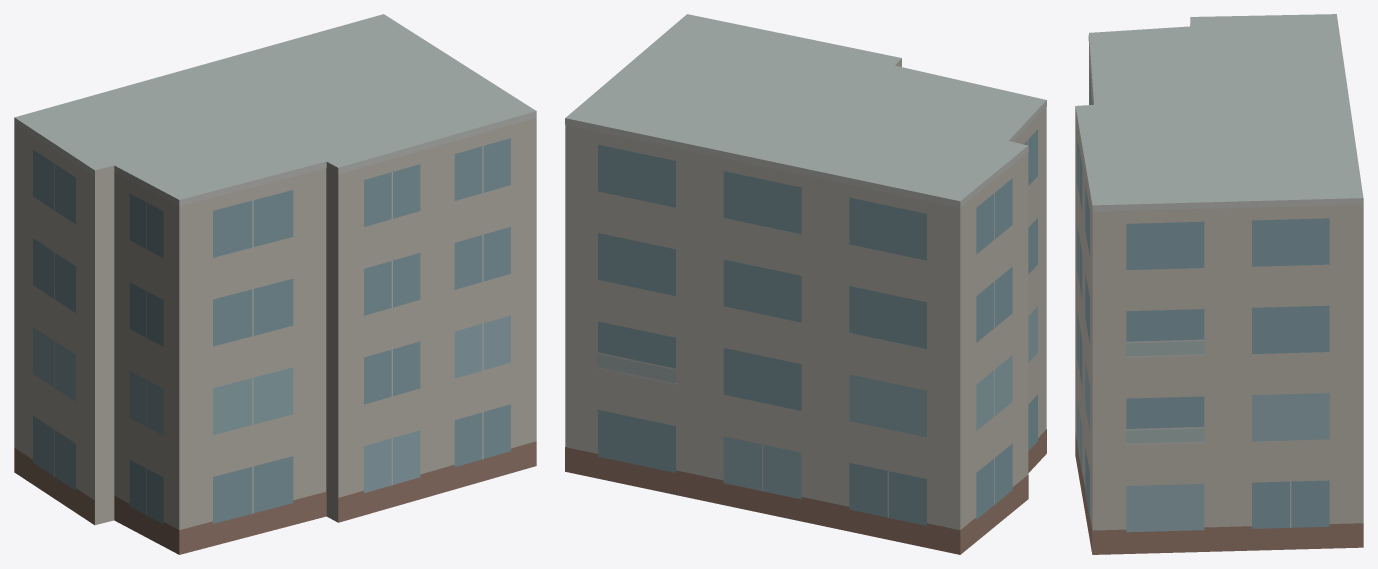
The model's file is survey-upis-32754190.glb.
3 views of the same model, side by side, from view 1: azimuth 30°, elevation 25°; view 2: azimuth 150°, elevation 25°; view 3: azimuth 270°, elevation 25° (orthographic).
Parts seen in each view (by area): view 1: survey-upis-32754190.tmp; view 2: survey-upis-32754190.tmp; view 3: survey-upis-32754190.tmp.
Boxes of the visible parts, bbox=[...] form: survey-upis-32754190.tmp: bbox=[14, 14, 536, 554]; survey-upis-32754190.tmp: bbox=[565, 14, 1046, 554]; survey-upis-32754190.tmp: bbox=[1075, 14, 1363, 554].
Bounding box in the file's own units: 15.63 × 13.3 × 9.95.
